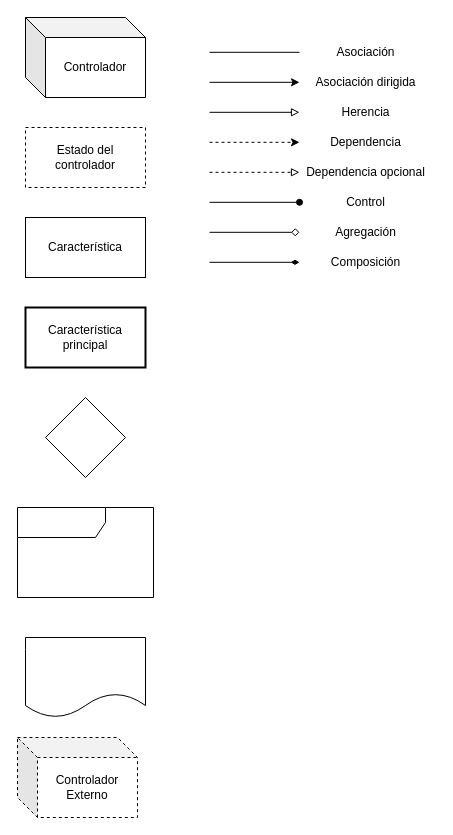
The diagram is 453 pixels wide and 835 high, and some of its shapes have lost their labels. Here are the shapes that lost their labels. From the top down, the centre of each, then its label:
At point (85, 437): "Componente".
At point (85, 552): "Subcontrolador".
At point (85, 677): "Clase".
